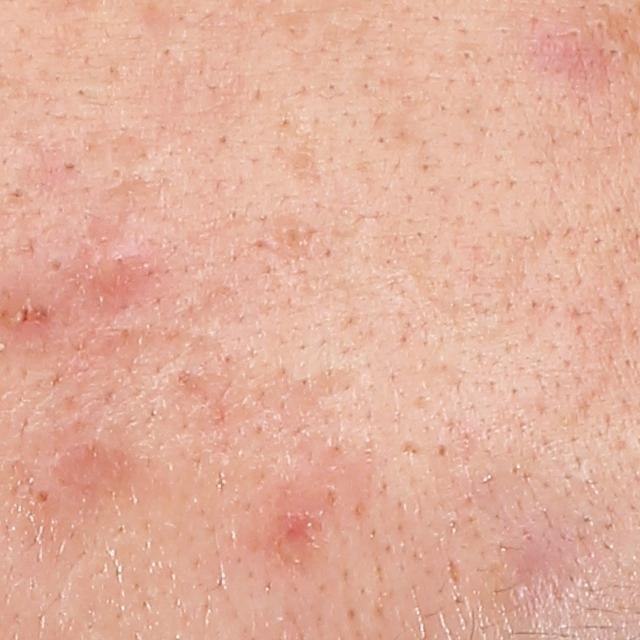atrophic_scar: (444, 555, 462, 590)
comedo: (31, 486, 54, 510), (588, 11, 610, 36), (48, 255, 69, 278), (457, 44, 476, 65)
papule: (96, 239, 152, 299)
